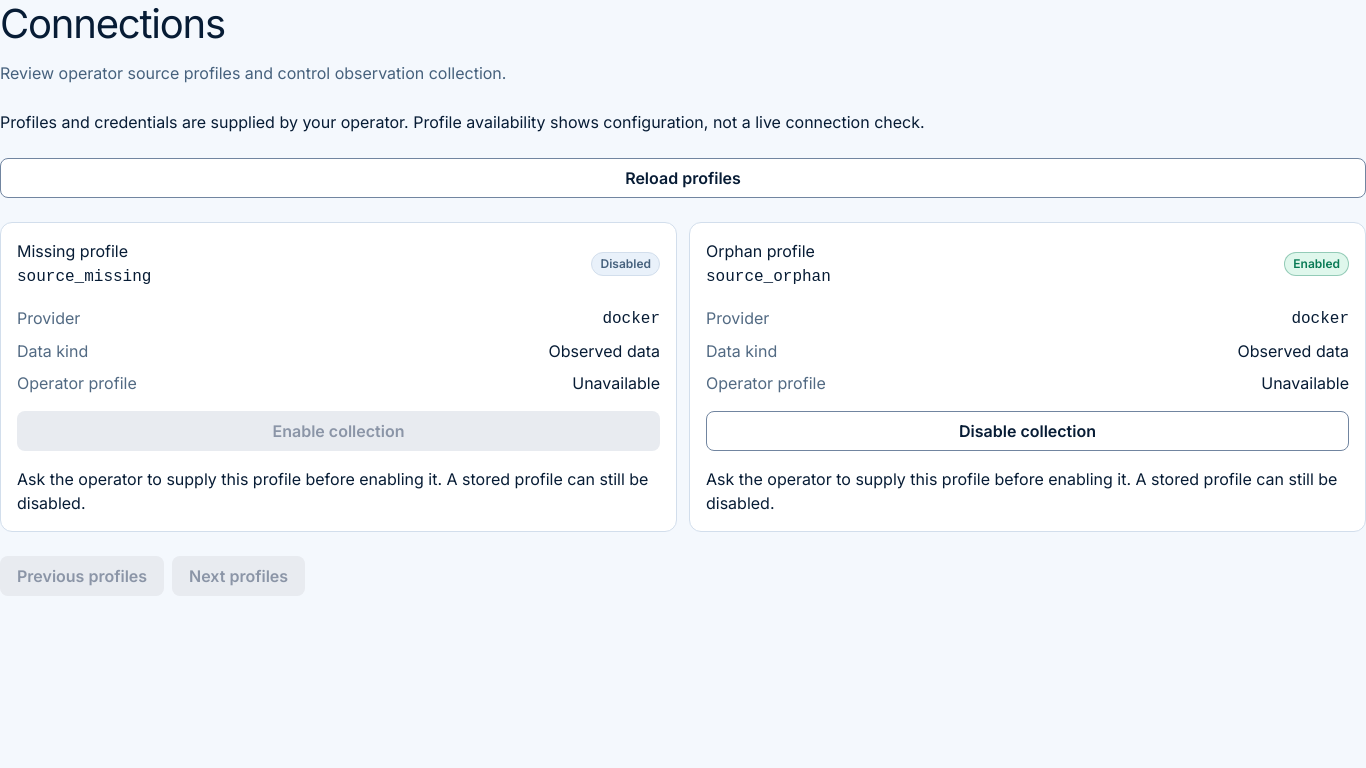
Test: operator source settings › cannot enable missing operator profiles, but can review disabling an enabled orphan
Check: the button with aria-label "Enable collection for Missing profile" is disabled, box [17,411,660,451]
Click the button with aria-label "Disable collection for Orphan profile" at (1028, 431), box [706,411,1349,451]
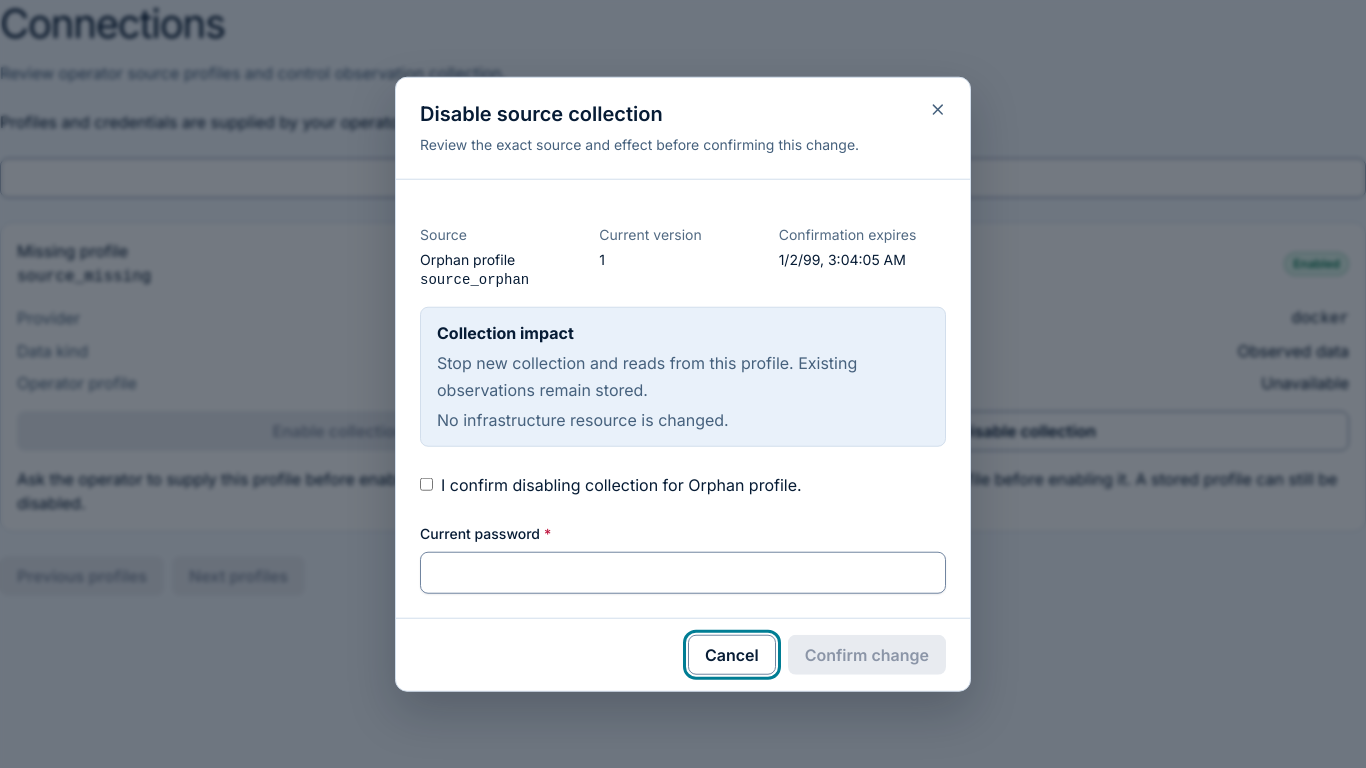
Check: the dialog "Disable source collection" is shown, box [395,77,971,691]
